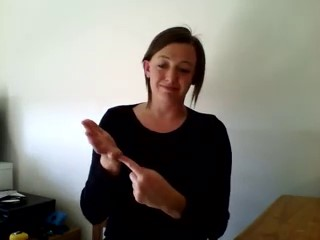T: (77, 114, 187, 212)
